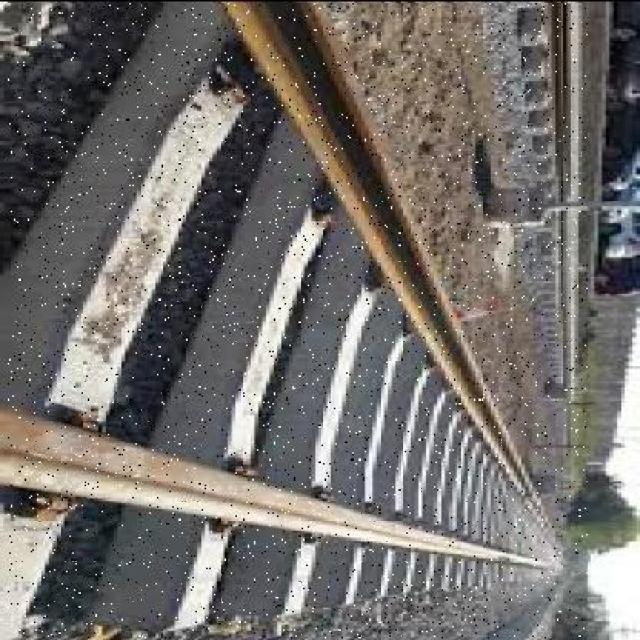rail: (9, 3, 588, 638)
